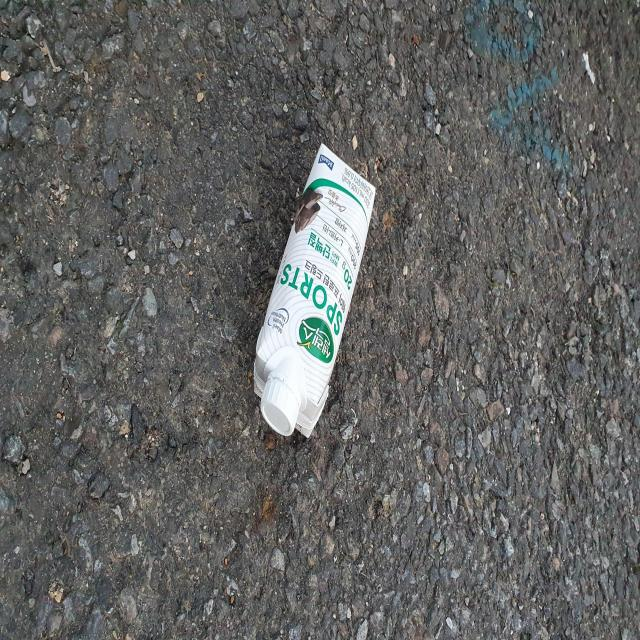paperpack: (254, 143, 376, 437)
